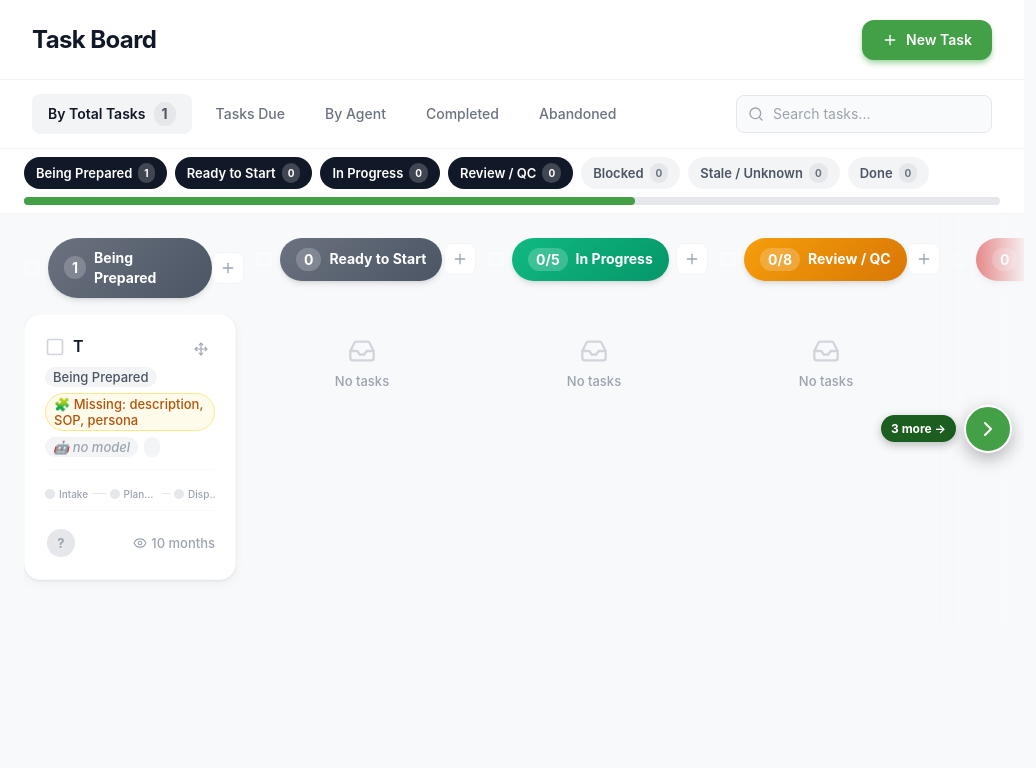
Test case: U062 › filter:mismatch+clear
Type "xxx" into the field with placeholder "Search tasks...".
click(864, 114); type("xxx")  # box left=736, top=95, right=992, bottom=133
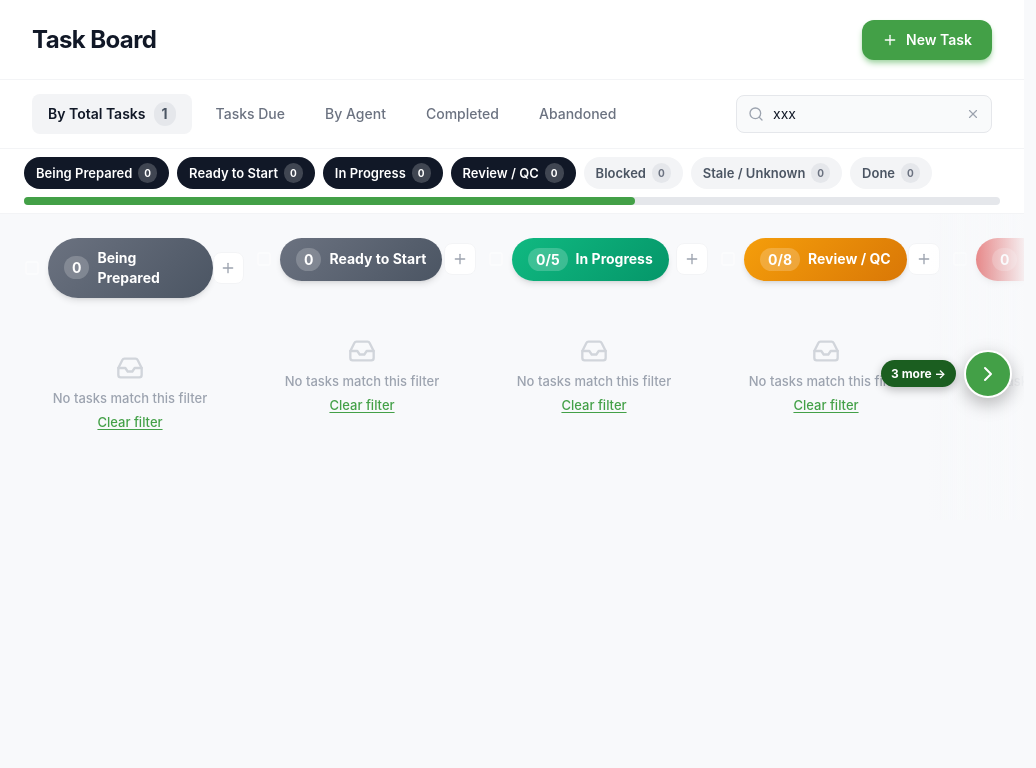
Now the text "No tasks match this filter" is shown 7 times
Now the number of buttons "Clear filter" is 7
